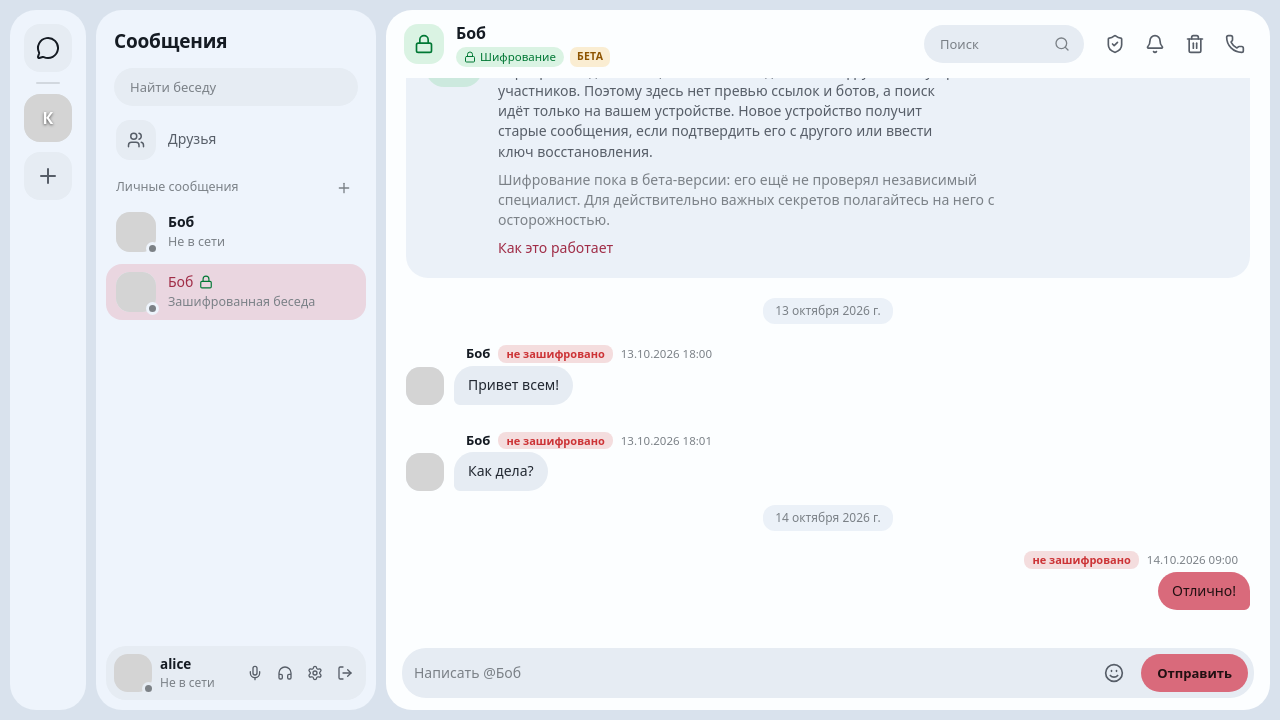
Test case: calls in encrypted conversations › switch to the new key when the conversation moves on
The image size is (1280, 720).
Click the button named "Позвонить" at (1235, 44), box left=1216, top=25, right=1254, bottom=63
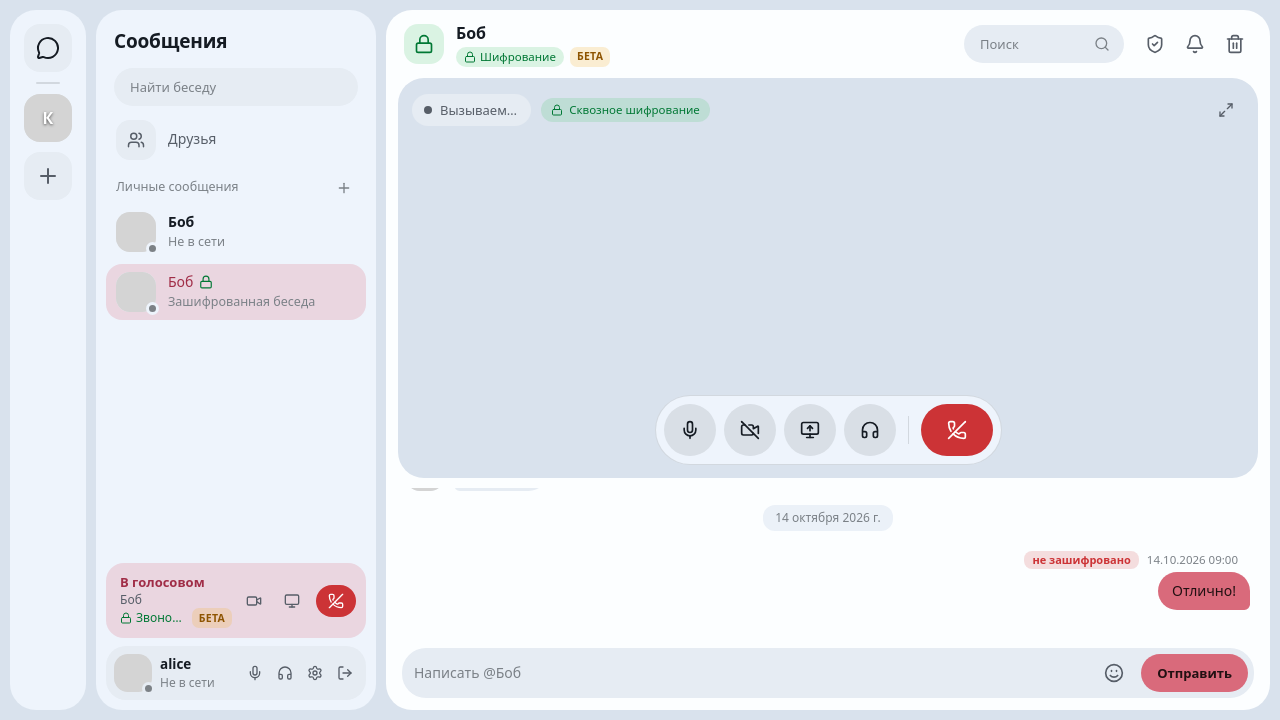
Check: the text "Звонок зашифрован" is shown, box left=136, top=610, right=188, bottom=626
